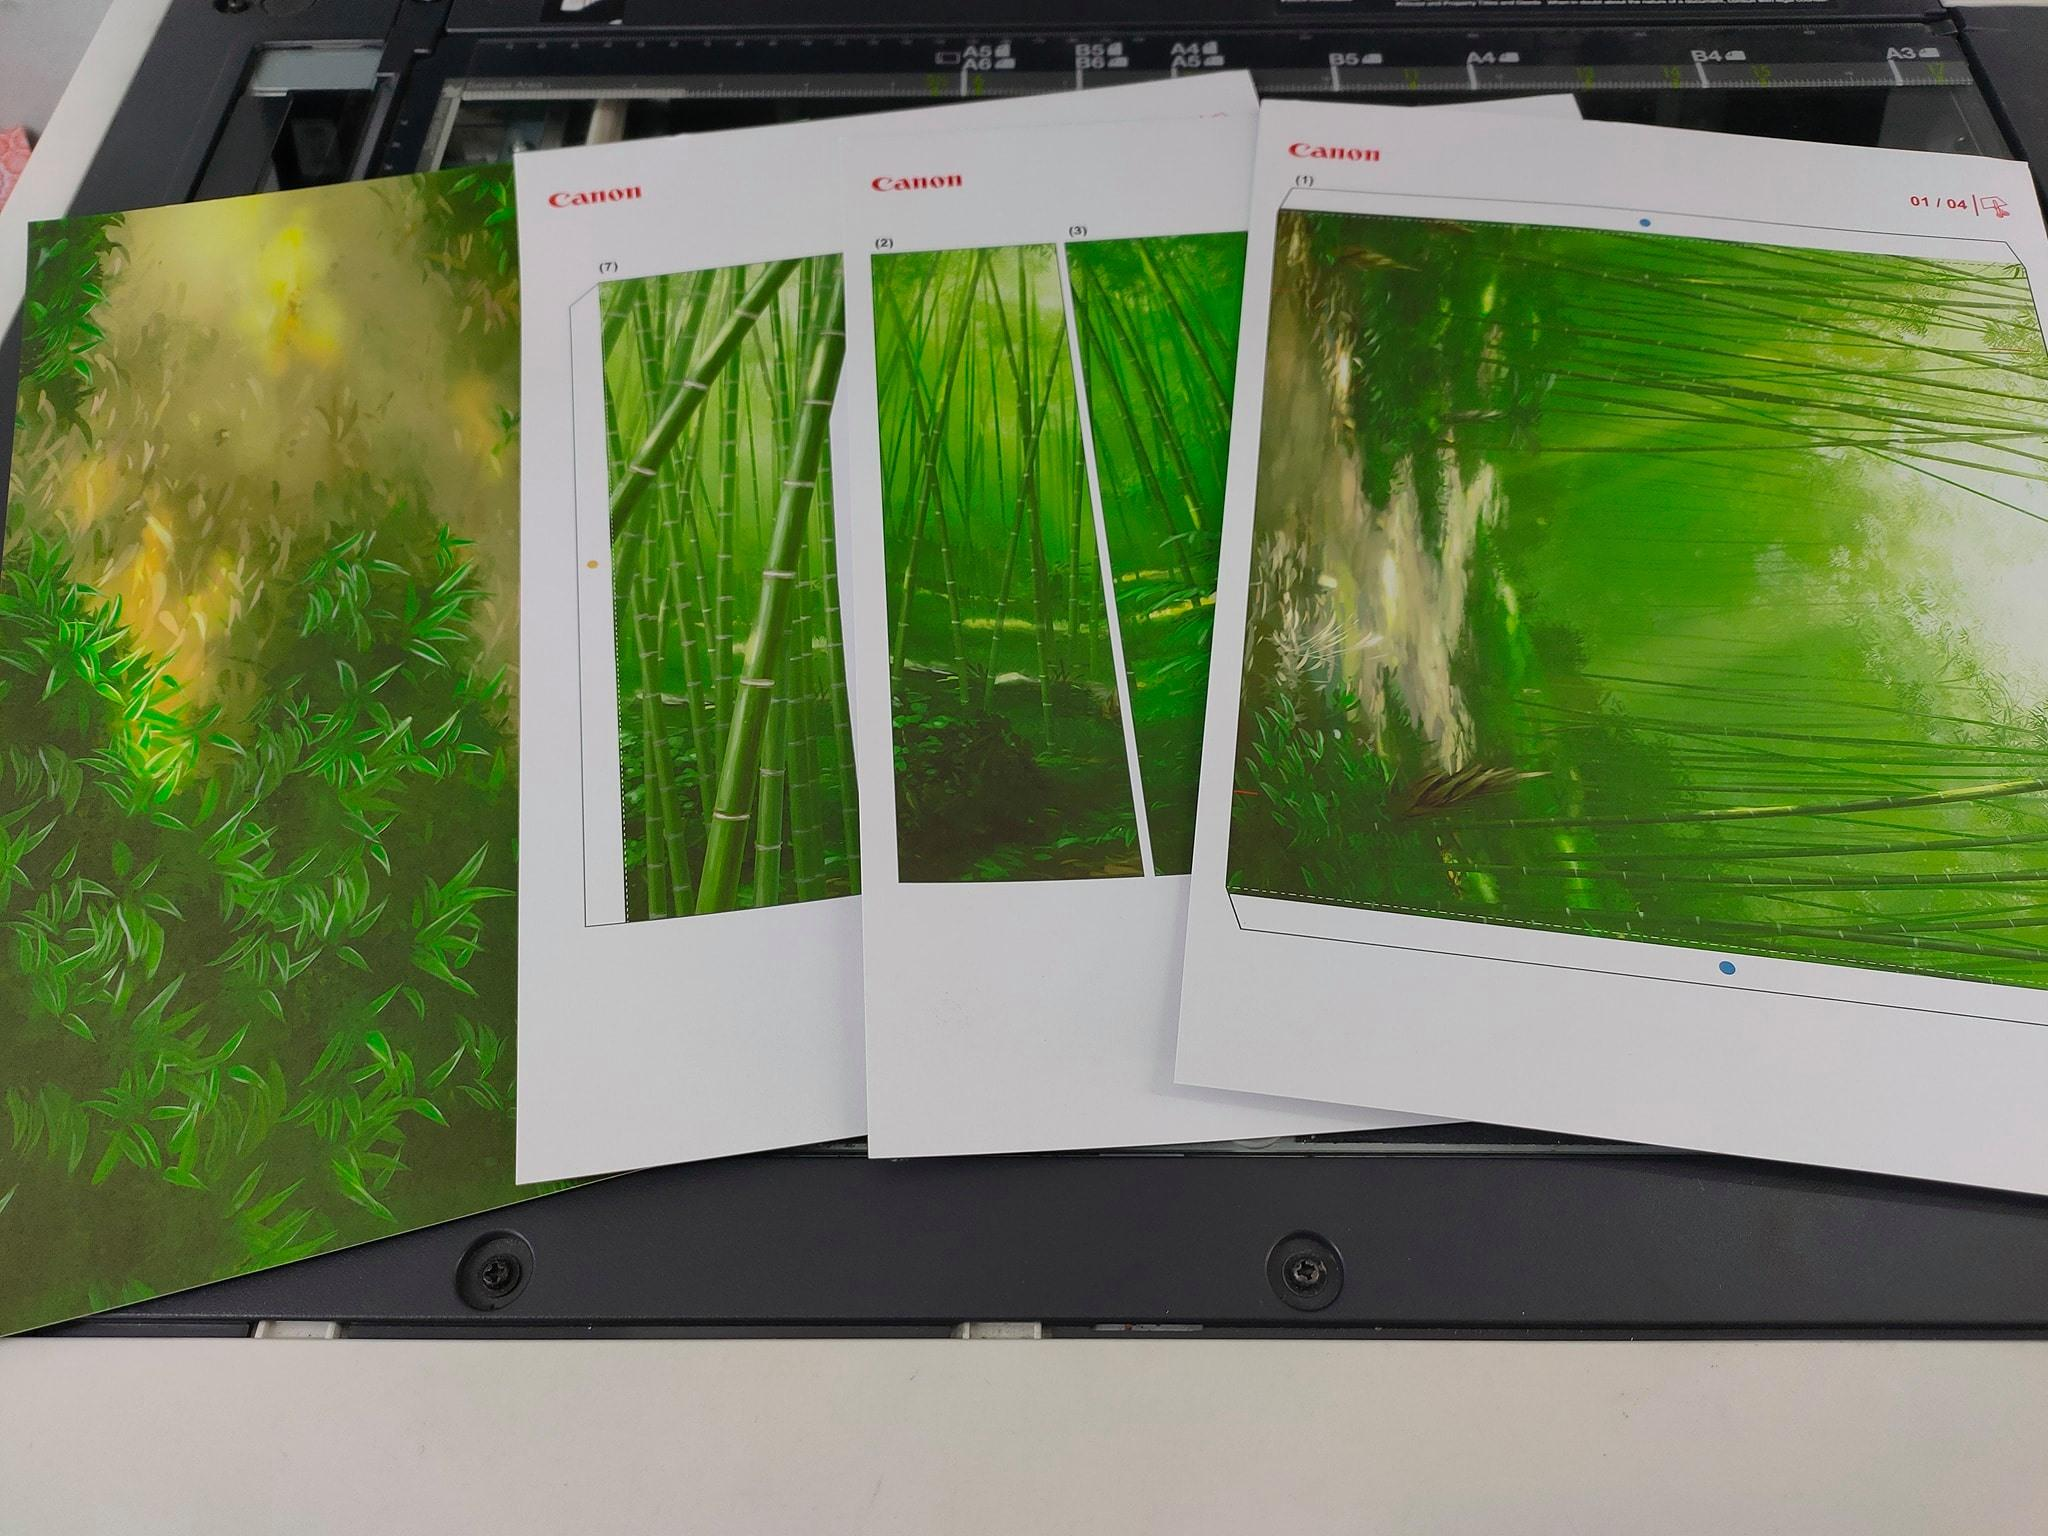paper: (519, 94, 1443, 1179), (6, 166, 561, 1331)
